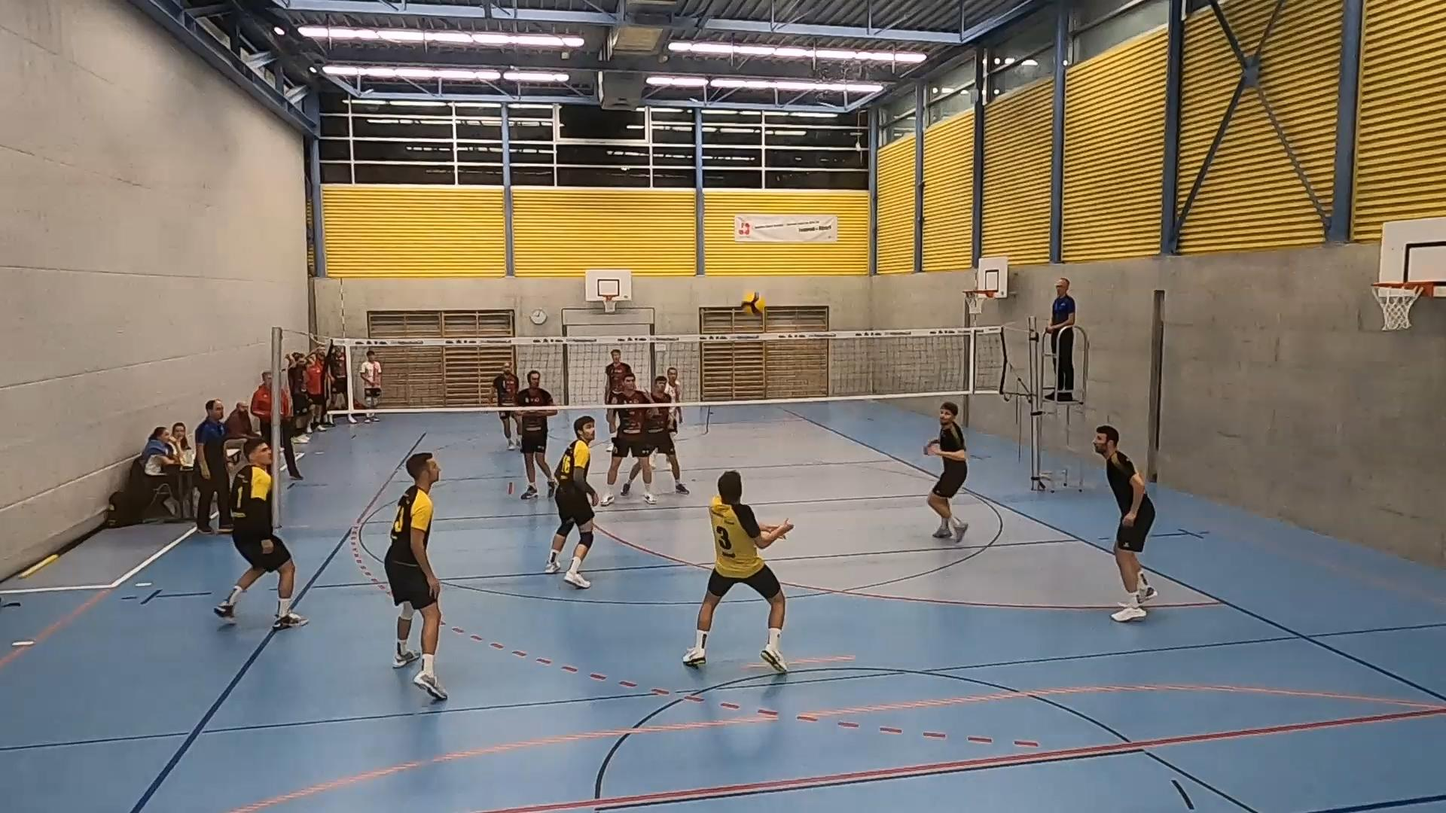ricezione: (689, 461, 796, 680)
